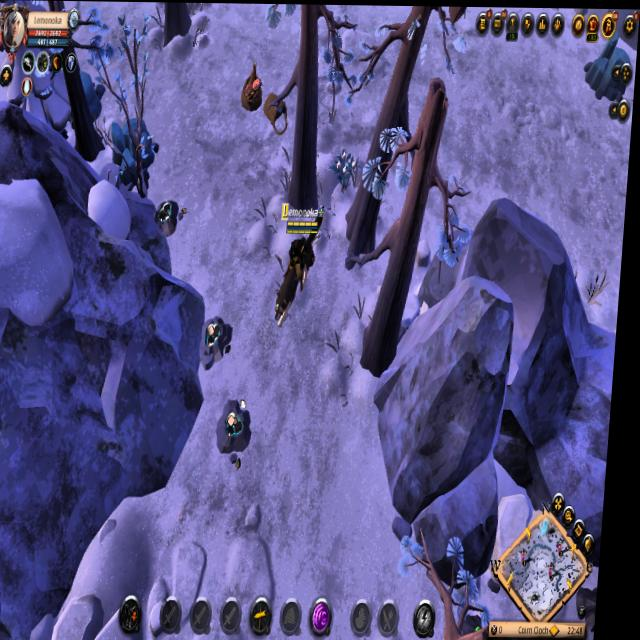fiber tier 4: (335, 144, 363, 193)
